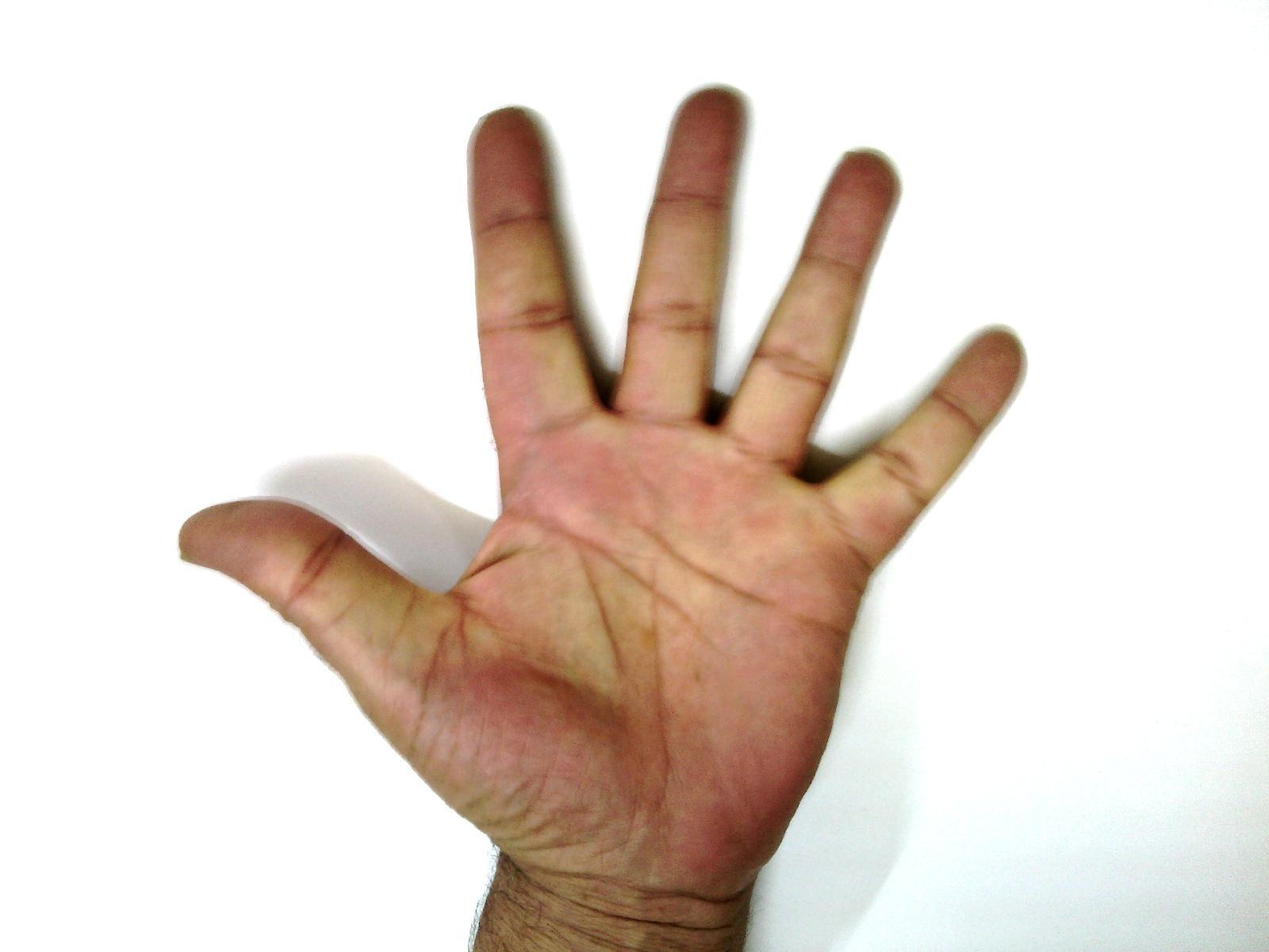open_palm: (177, 85, 1031, 904)
